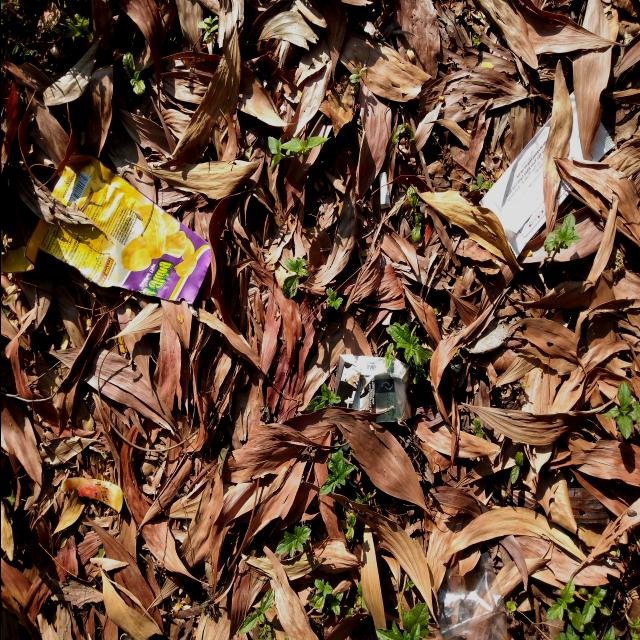Other carton: (332, 354, 410, 423), (378, 172, 390, 210)
Other plastic: (0, 154, 210, 318)
Plastic film: (430, 551, 506, 639)
